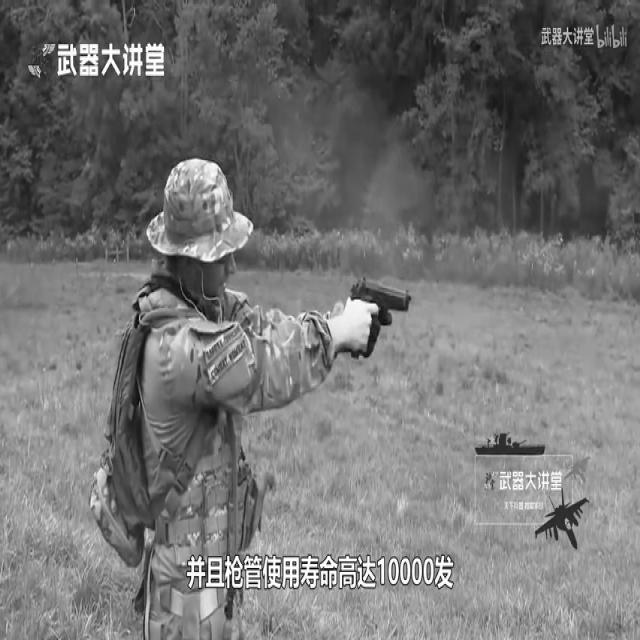Hand-Gun: (341, 272, 424, 363)
